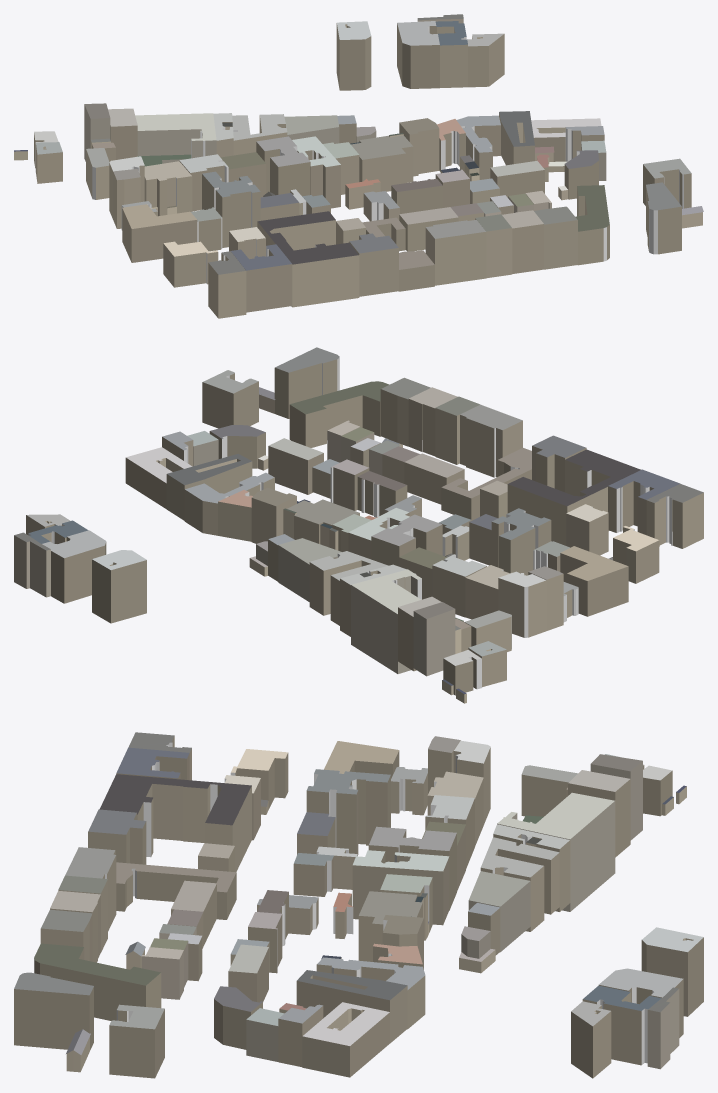
3 views of the same model, one above another, from view 1: azimuth 30°, elevation 25°; view 2: azimuth 150°, elevation 25°; view 3: azimuth 270°, elevation 25° (orthographic). The views are drawn at different scales.
Visible parts, largest first — view 1: tuile; view 2: tuile; view 3: tuile.
Boxes of the visible parts, <box> form: tuile: <box>14,14,703,318</box>; tuile: <box>14,347,703,703</box>; tuile: <box>14,732,703,1078</box>.
Size of the model in its own units: 270 by 37.71 by 265.
